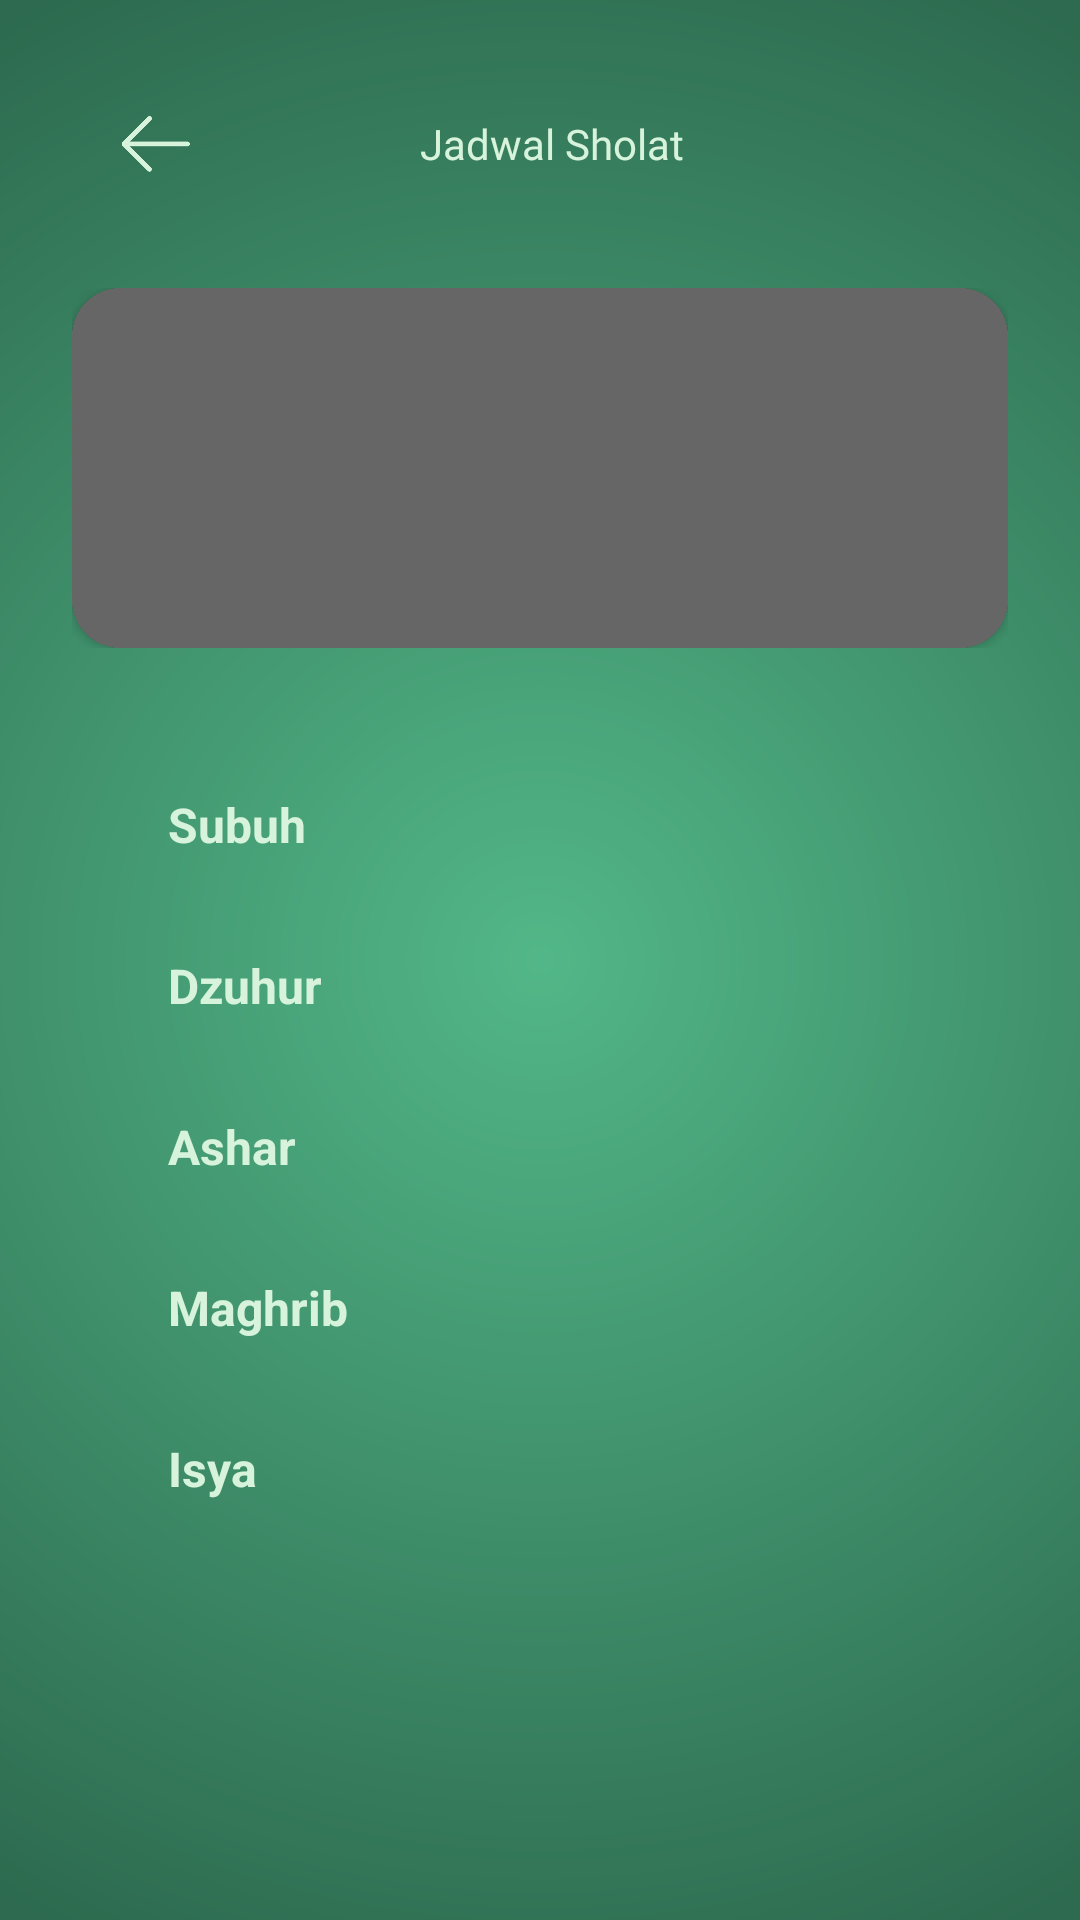

Named icons in this screenshot (1080px×1920px) and their centers, [x,y]:
Kembali: [156,144]
